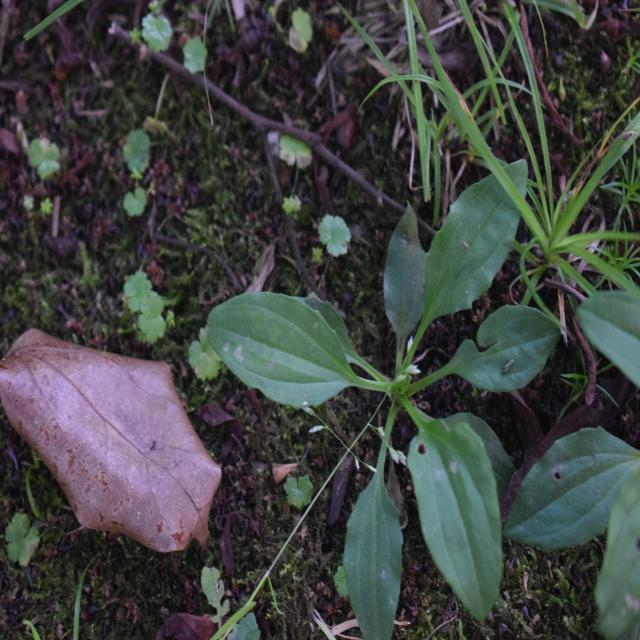plantain: (243, 168, 548, 586)
